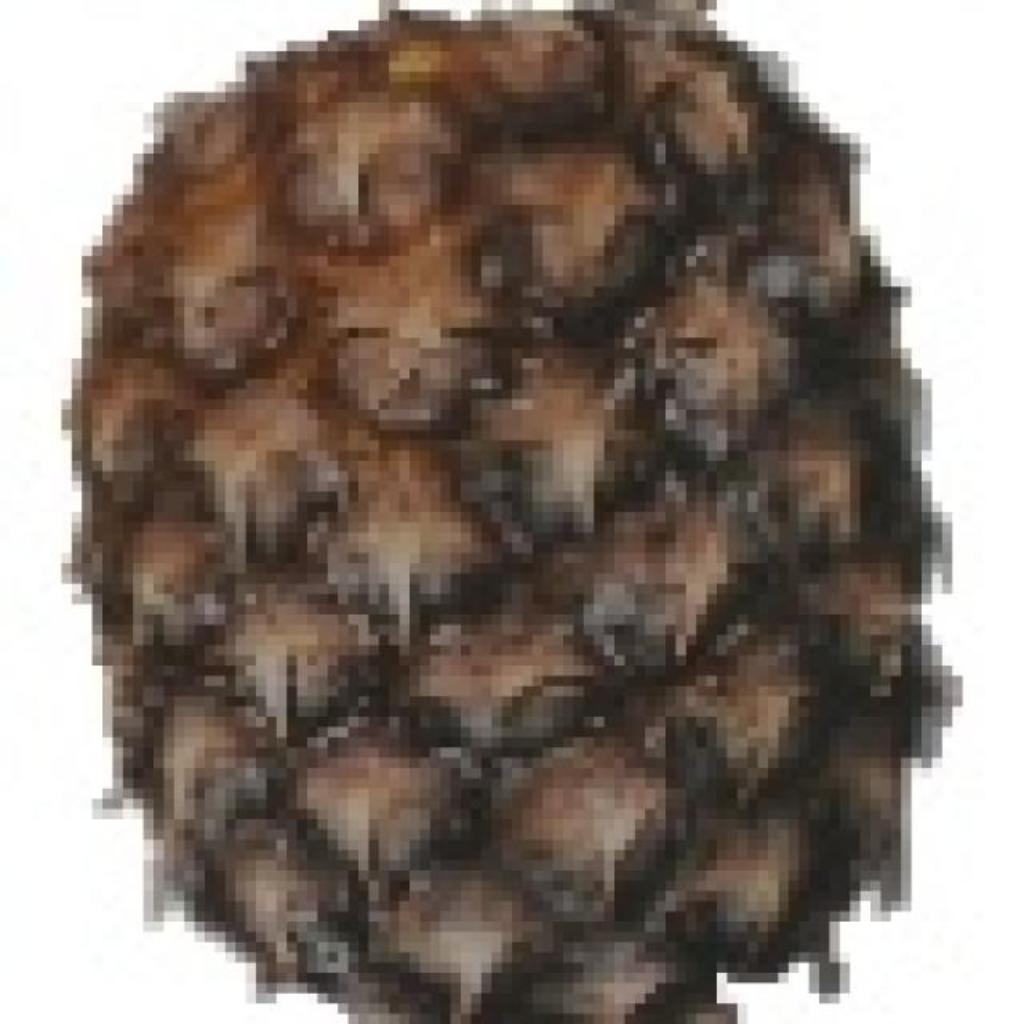pineapple: (72, 0, 952, 1024)
